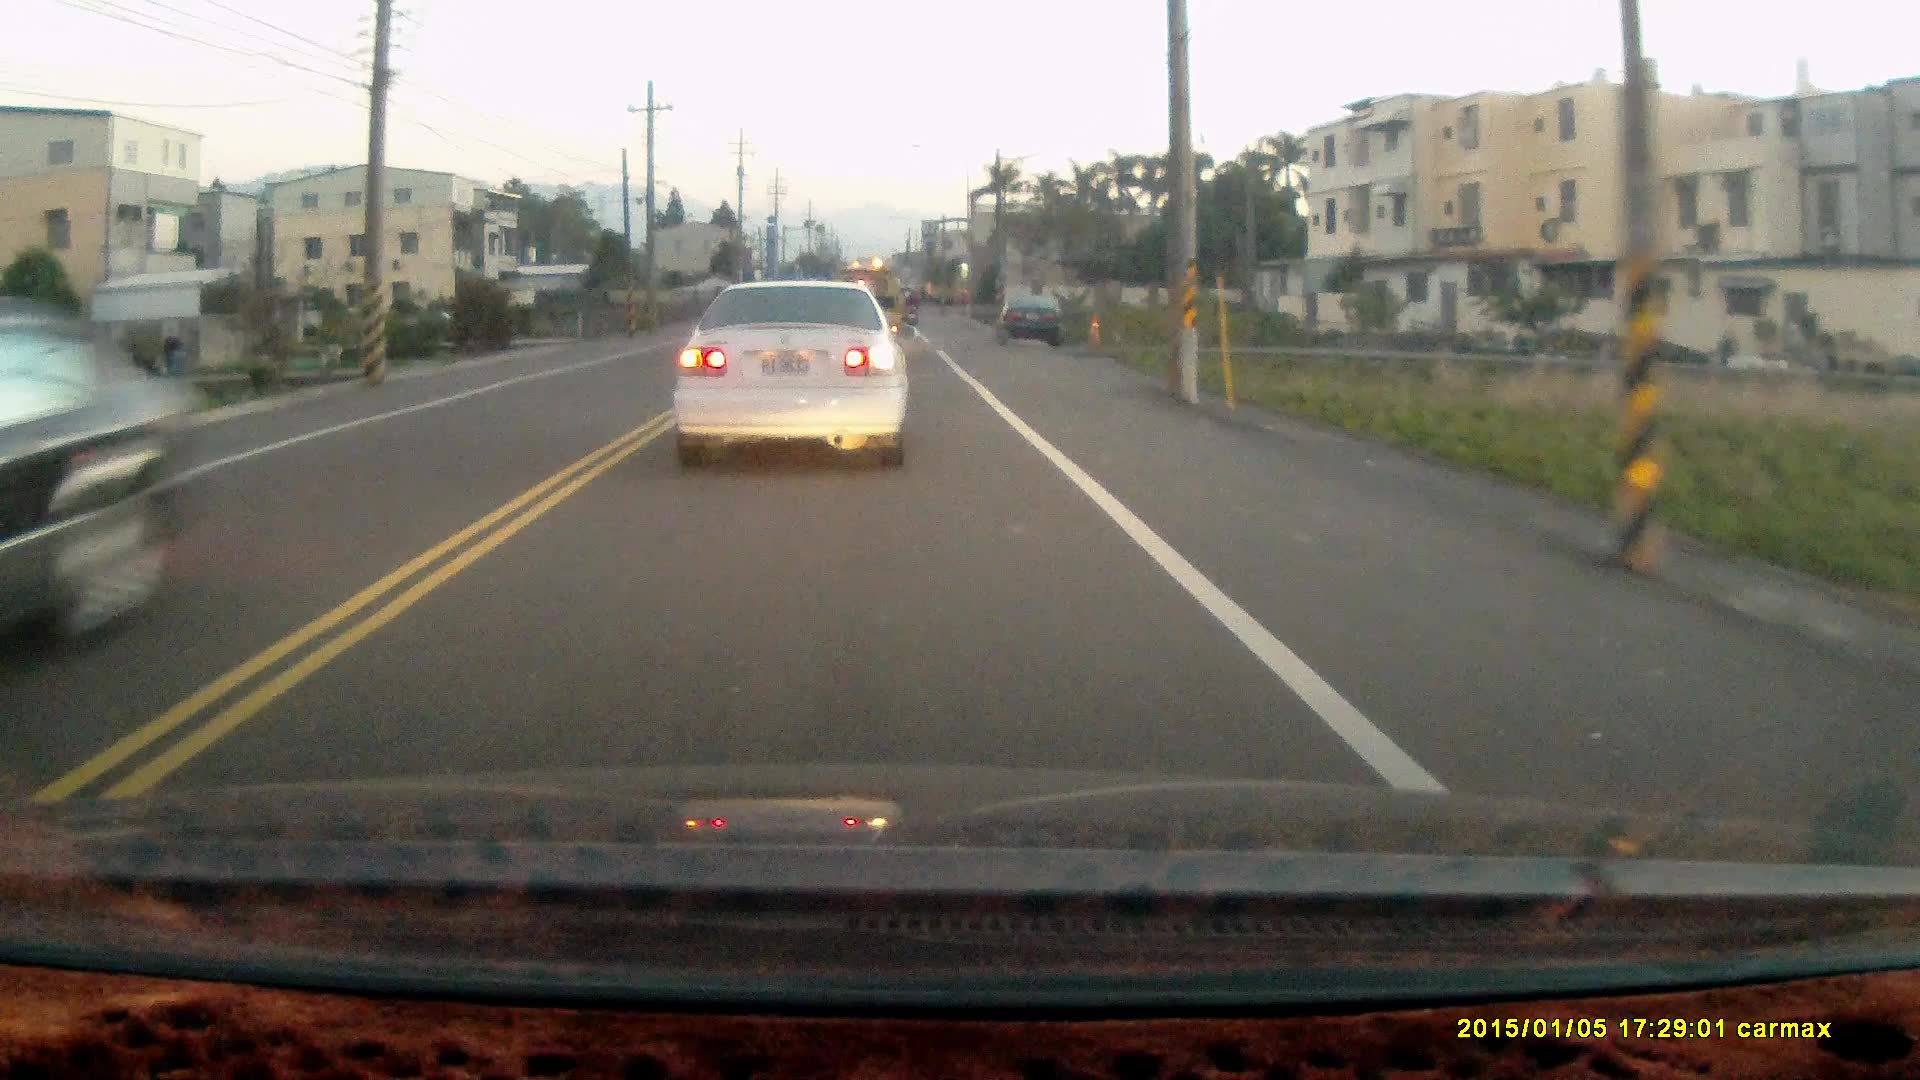vehicle: (4, 324, 193, 636), (673, 280, 913, 473), (1001, 293, 1069, 349)
